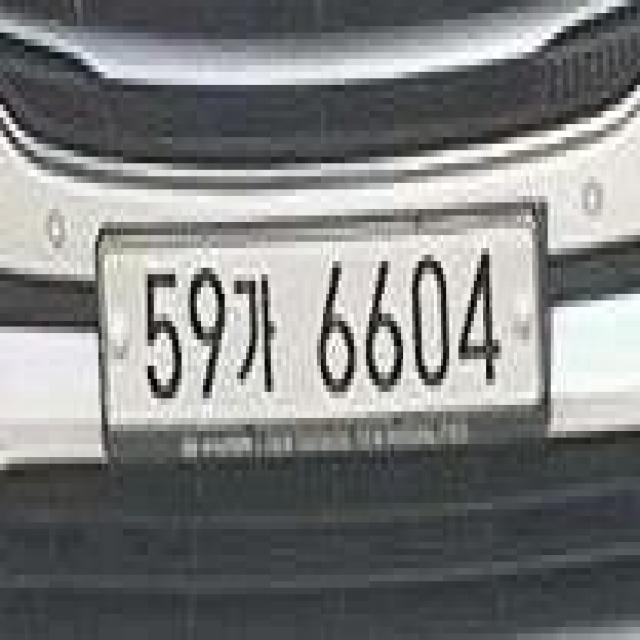0: (410, 248, 452, 390)
4: (457, 242, 502, 396)
5: (140, 268, 183, 408)
6: (308, 246, 358, 404), (362, 248, 405, 400)
9: (186, 262, 226, 407)
ga: (232, 266, 278, 402)
license_plate: (84, 198, 552, 435)
